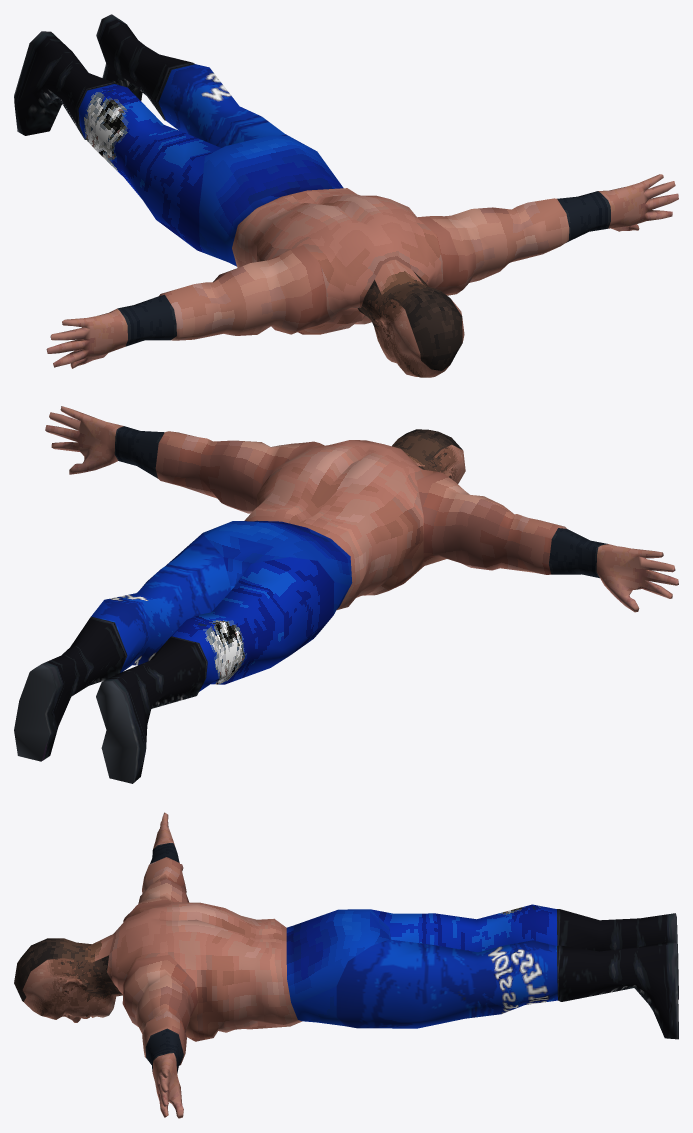
The model's file is before.obj.
3 views of the same model, one above another, from view 1: azimuth 30°, elevation 25°; view 2: azimuth 150°, elevation 25°; view 3: azimuth 270°, elevation 25° (orthographic). The views are drawn at different scales.
Visible parts, largest first — view 1: native_mesh_36, native_mesh_12, native_mesh_00, native_mesh_22, native_mesh_15, native_mesh_18, native_mesh_33, native_mesh_37, native_mesh_35, native_mesh_13, native_mesh_17, native_mesh_34 (+3 smaller); view 2: native_mesh_36, native_mesh_35, native_mesh_22, native_mesh_37, native_mesh_15, native_mesh_18, native_mesh_33, native_mesh_12, native_mesh_34, native_mesh_17, native_mesh_00, native_mesh_13 (+3 smaller); view 3: native_mesh_33, native_mesh_22, native_mesh_35, native_mesh_36, native_mesh_00, native_mesh_34, native_mesh_12, native_mesh_15, native_mesh_37, native_mesh_13, native_mesh_18, native_mesh_19.
Boxes of the visible parts, x1,y1,x2,y2 form: native_mesh_36: [78, 84, 272, 266]; native_mesh_12: [269, 209, 481, 334]; native_mesh_00: [361, 260, 464, 377]; native_mesh_22: [96, 14, 238, 139]; native_mesh_15: [451, 191, 610, 282]; native_mesh_18: [159, 260, 288, 340]; native_mesh_33: [203, 106, 343, 224]; native_mesh_37: [14, 31, 113, 139]; native_mesh_35: [232, 188, 360, 267]; native_mesh_13: [279, 198, 443, 334]; native_mesh_17: [88, 294, 176, 360]; native_mesh_34: [326, 195, 408, 326]; native_mesh_36: [171, 522, 352, 691]; native_mesh_35: [244, 455, 437, 610]; native_mesh_22: [14, 593, 174, 761]; native_mesh_37: [96, 636, 207, 783]; native_mesh_15: [114, 426, 278, 513]; native_mesh_18: [436, 490, 599, 578]; native_mesh_33: [137, 520, 350, 631]; native_mesh_12: [261, 440, 464, 565]; native_mesh_34: [257, 440, 387, 597]; native_mesh_17: [549, 528, 632, 601]; native_mesh_00: [392, 429, 465, 483]; native_mesh_13: [283, 443, 424, 588]; native_mesh_33: [286, 910, 478, 1028]; native_mesh_22: [465, 940, 678, 1039]; native_mesh_35: [172, 902, 301, 1029]; native_mesh_36: [294, 904, 557, 952]; native_mesh_00: [14, 935, 113, 1019]; native_mesh_34: [148, 906, 240, 1041]; native_mesh_12: [93, 894, 195, 1026]; native_mesh_15: [131, 974, 191, 1072]; native_mesh_37: [557, 909, 678, 999]; native_mesh_13: [113, 902, 211, 1041]; native_mesh_18: [138, 857, 189, 903]; native_mesh_19: [153, 1053, 178, 1100].
Size of the model in its own units: 19.67 by 3.65 by 20.04.
Materials: 15 (15 with a texture image).
